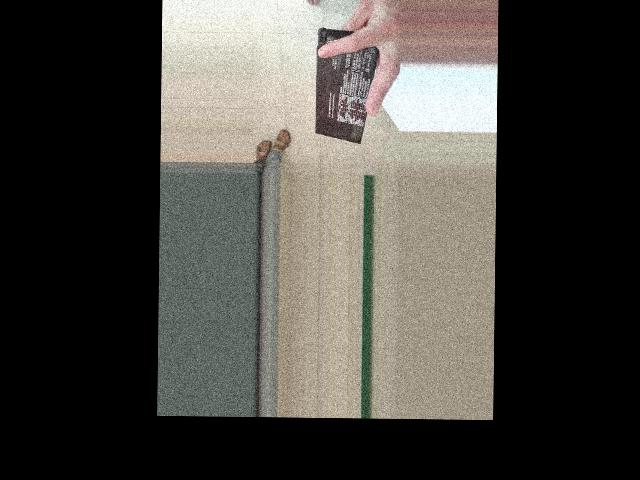chocolate: (246, 35, 370, 115)
